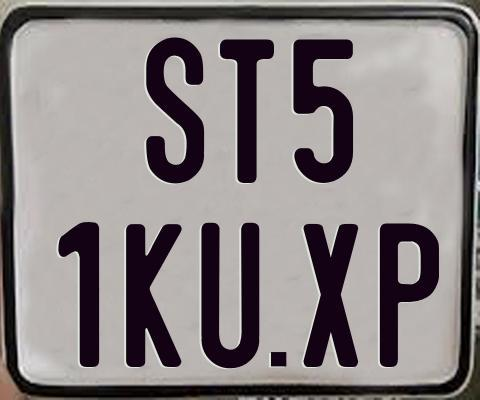1: (58, 221, 102, 367)
5: (293, 37, 356, 181)
K: (126, 222, 183, 366)
P: (379, 220, 441, 365)
S: (144, 34, 204, 186)
T: (217, 39, 272, 188)
U: (198, 223, 261, 372)
X: (303, 222, 361, 370)
